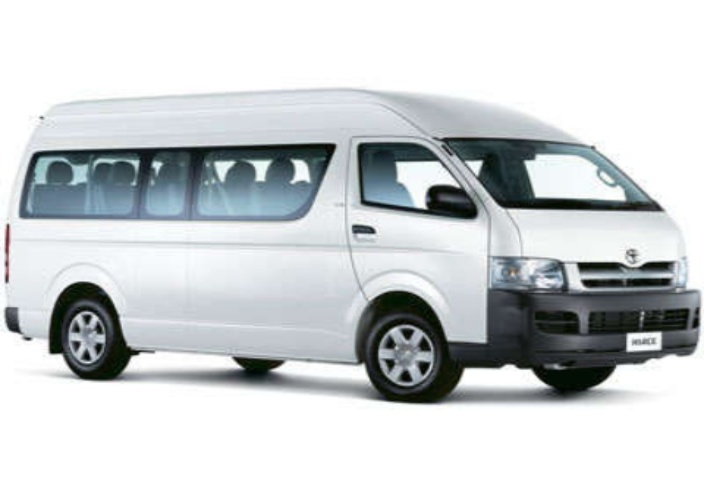van: (13, 77, 702, 410)
